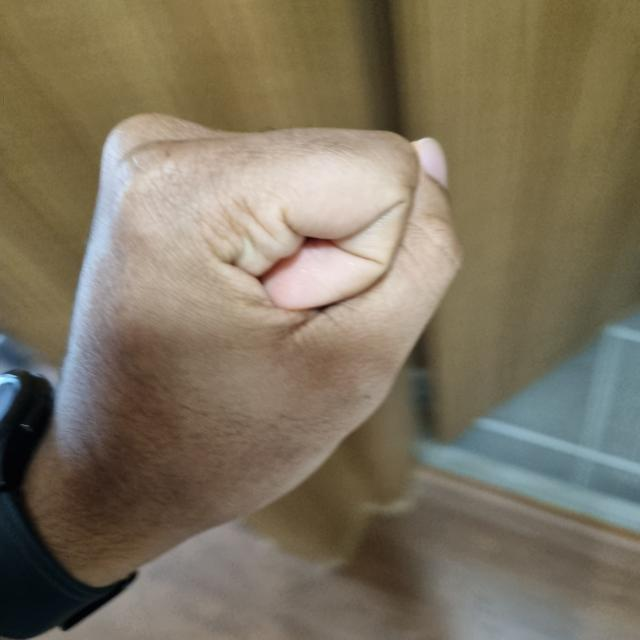Rock: (73, 125, 458, 523)
